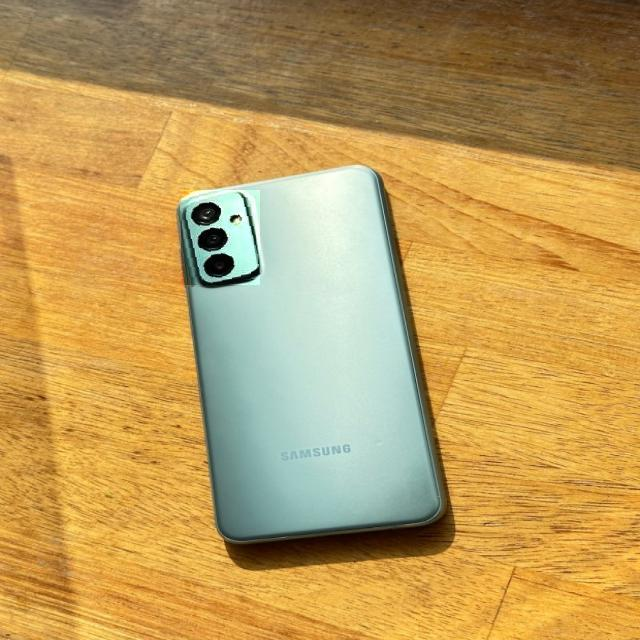phone: (172, 164, 455, 549)
